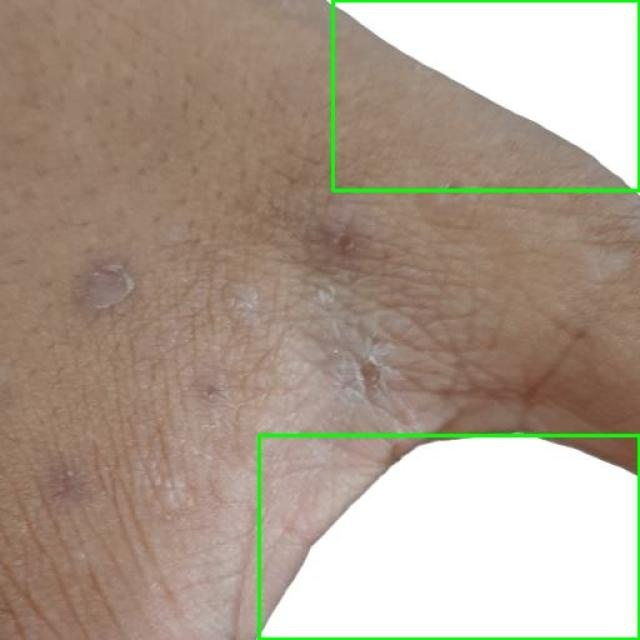Scabies: (259, 435, 639, 639), (332, 0, 639, 190)
